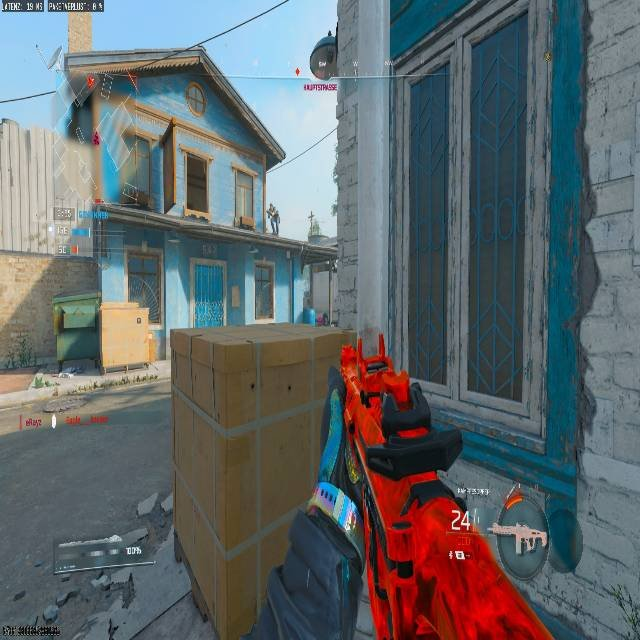player: (266, 202, 280, 233), (316, 311, 327, 326)
